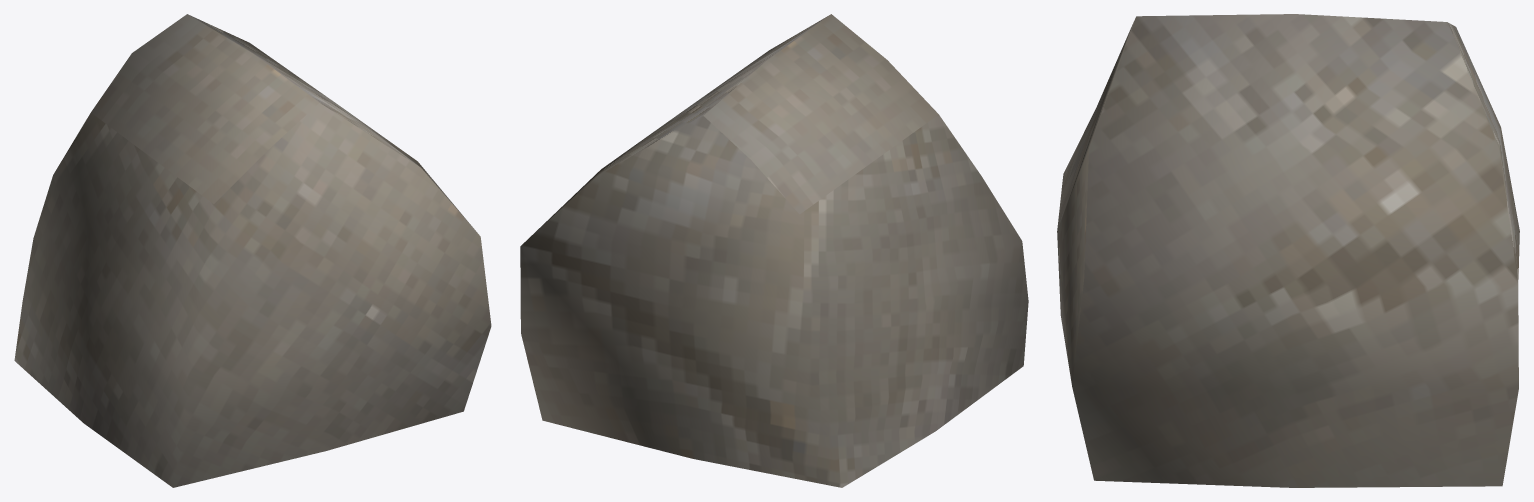
File: rock_4.fbx
3 renders of one model, left to right at view 1: azimuth 30°, elevation 25°; view 2: azimuth 150°, elevation 25°; view 3: azimuth 270°, elevation 25°, orthographic. The views are drawn at different scales.
Parts seen in each view (by area): view 1: rock_4; view 2: rock_4; view 3: rock_4.
Boxes of the visible parts, <box> form: rock_4: <box>14,14,491,487</box>; rock_4: <box>520,14,1028,487</box>; rock_4: <box>1057,14,1519,487</box>.
Size of the model in its own units: 48.19 by 48.32 by 45.28.
